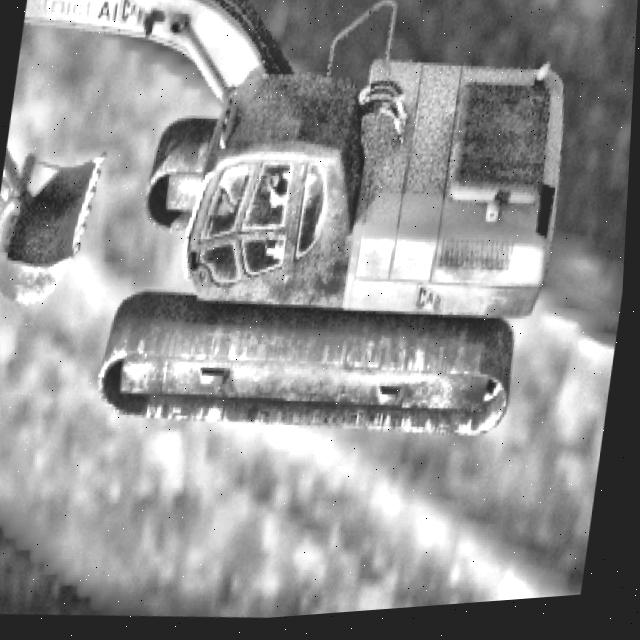excavator: (0, 0, 587, 473)
